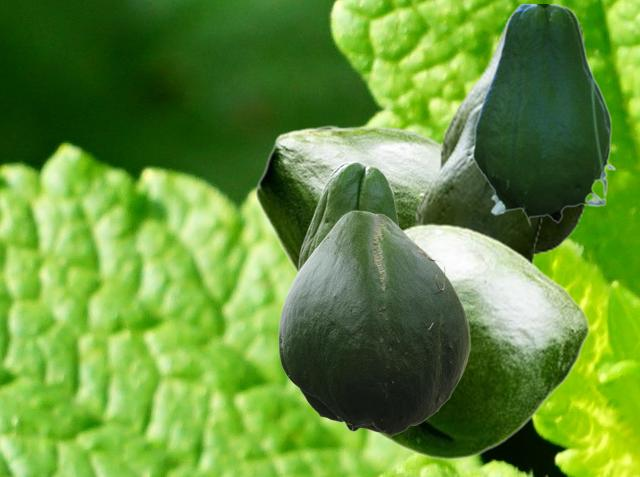sayote: (370, 223, 589, 459), (278, 210, 469, 436), (439, 4, 591, 254), (472, 4, 615, 226), (255, 125, 440, 275), (414, 100, 542, 264), (298, 160, 399, 270)
